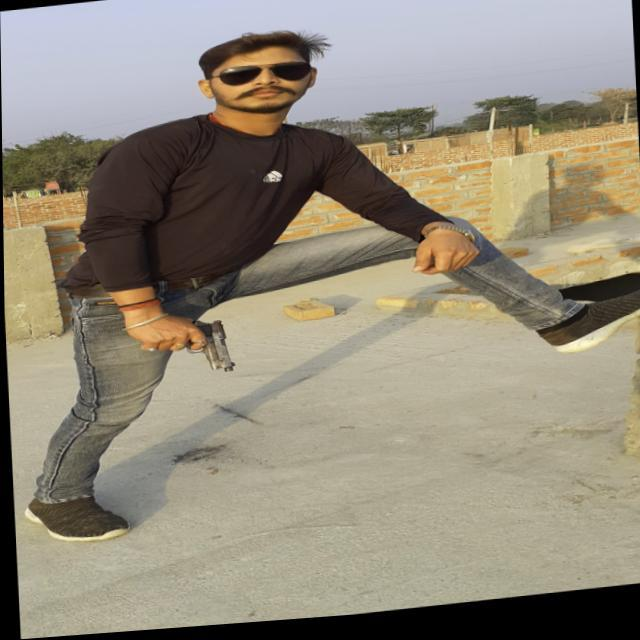weapon: (128, 317, 237, 386)
